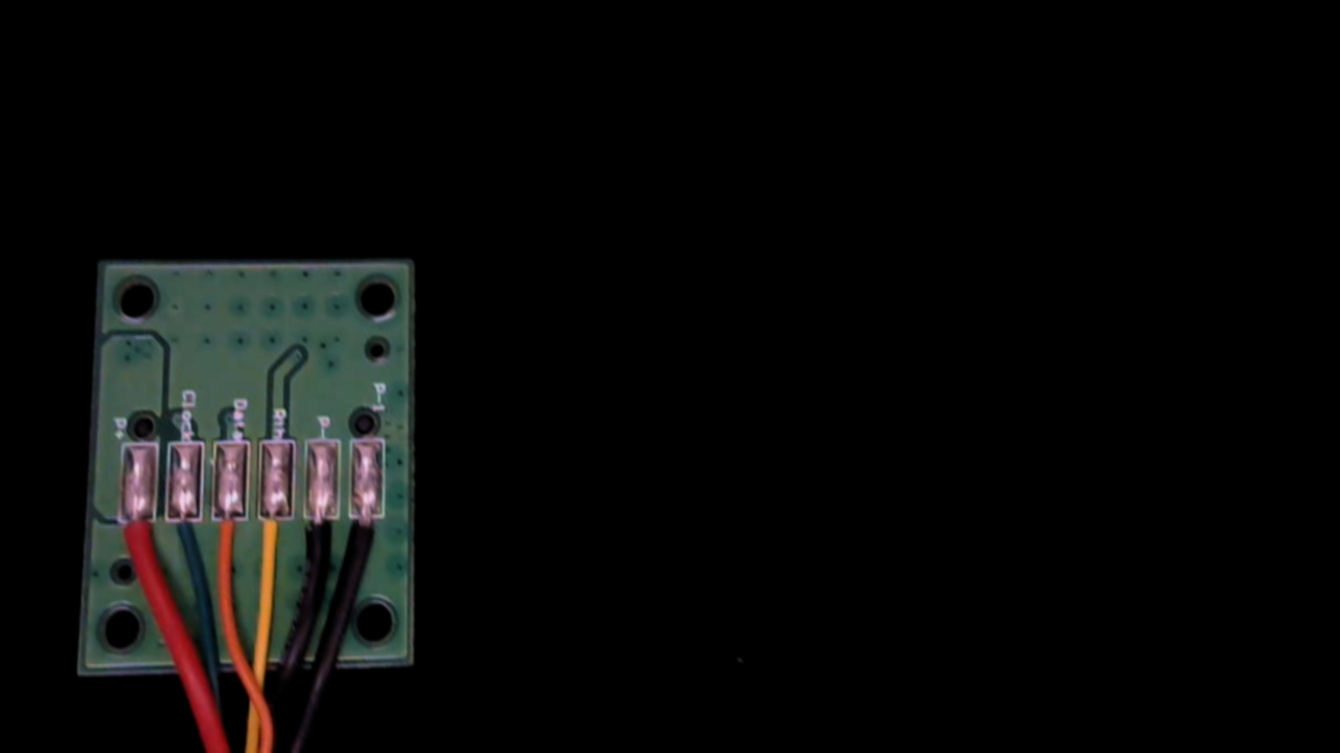Black: (301, 498, 337, 576)
Black1: (348, 494, 386, 578)
Green: (164, 497, 205, 584)
Orange: (209, 497, 248, 586)
Red: (115, 500, 155, 586)
Yellow: (253, 500, 293, 592)
